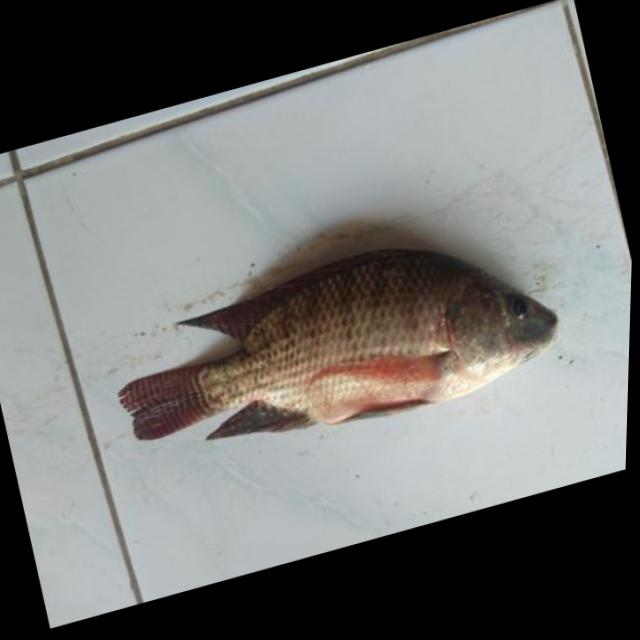Tilapia: (95, 206, 572, 484)
